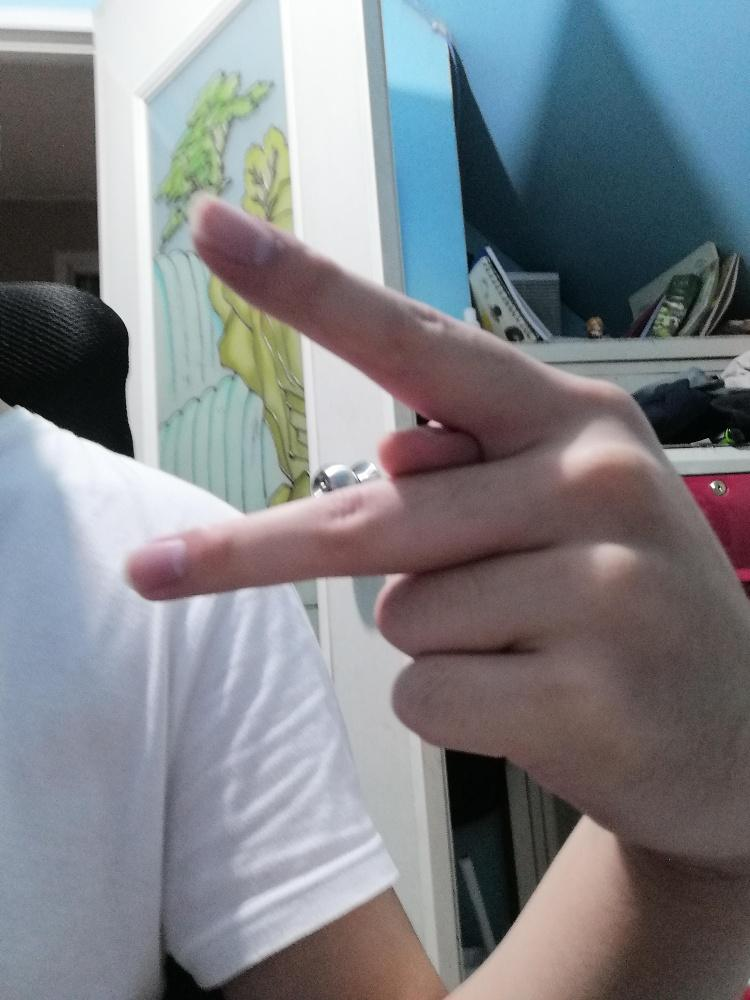k: (125, 191, 749, 856)
